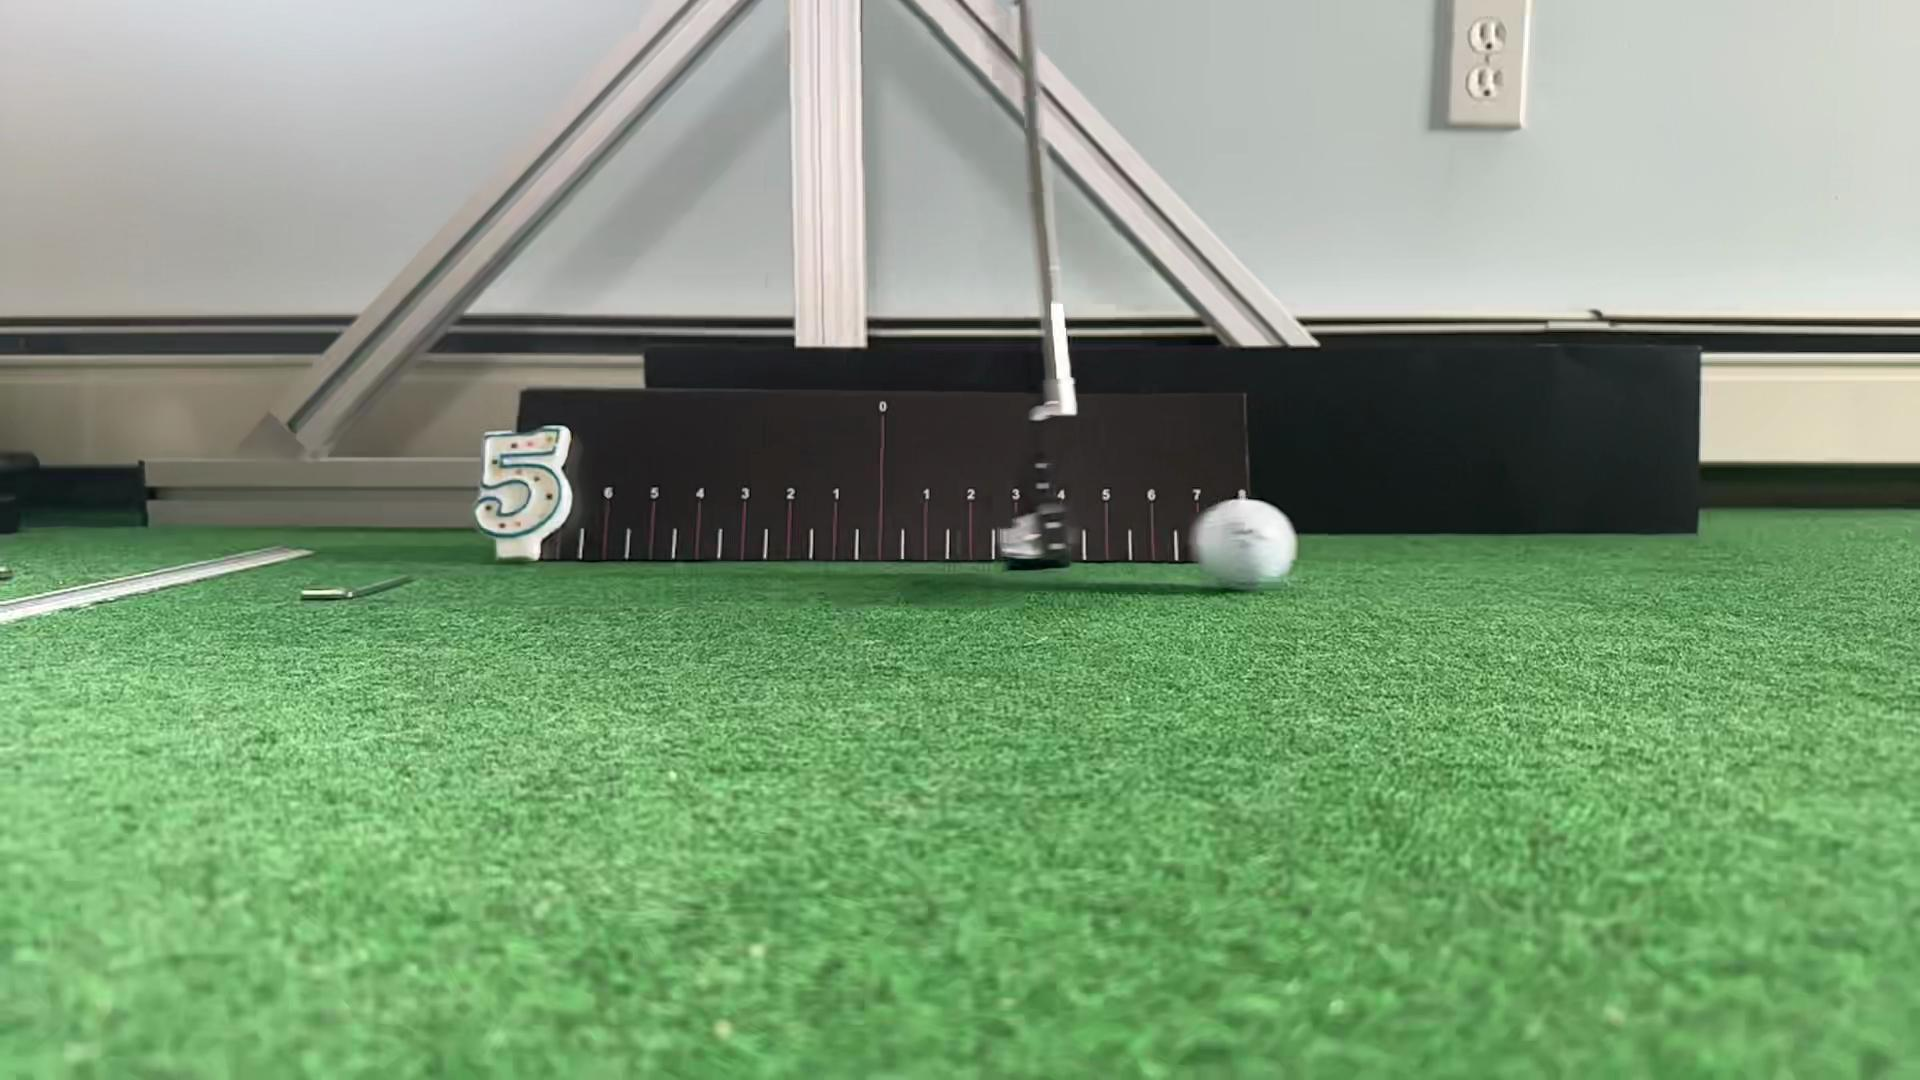golfball: (1193, 500, 1296, 590)
